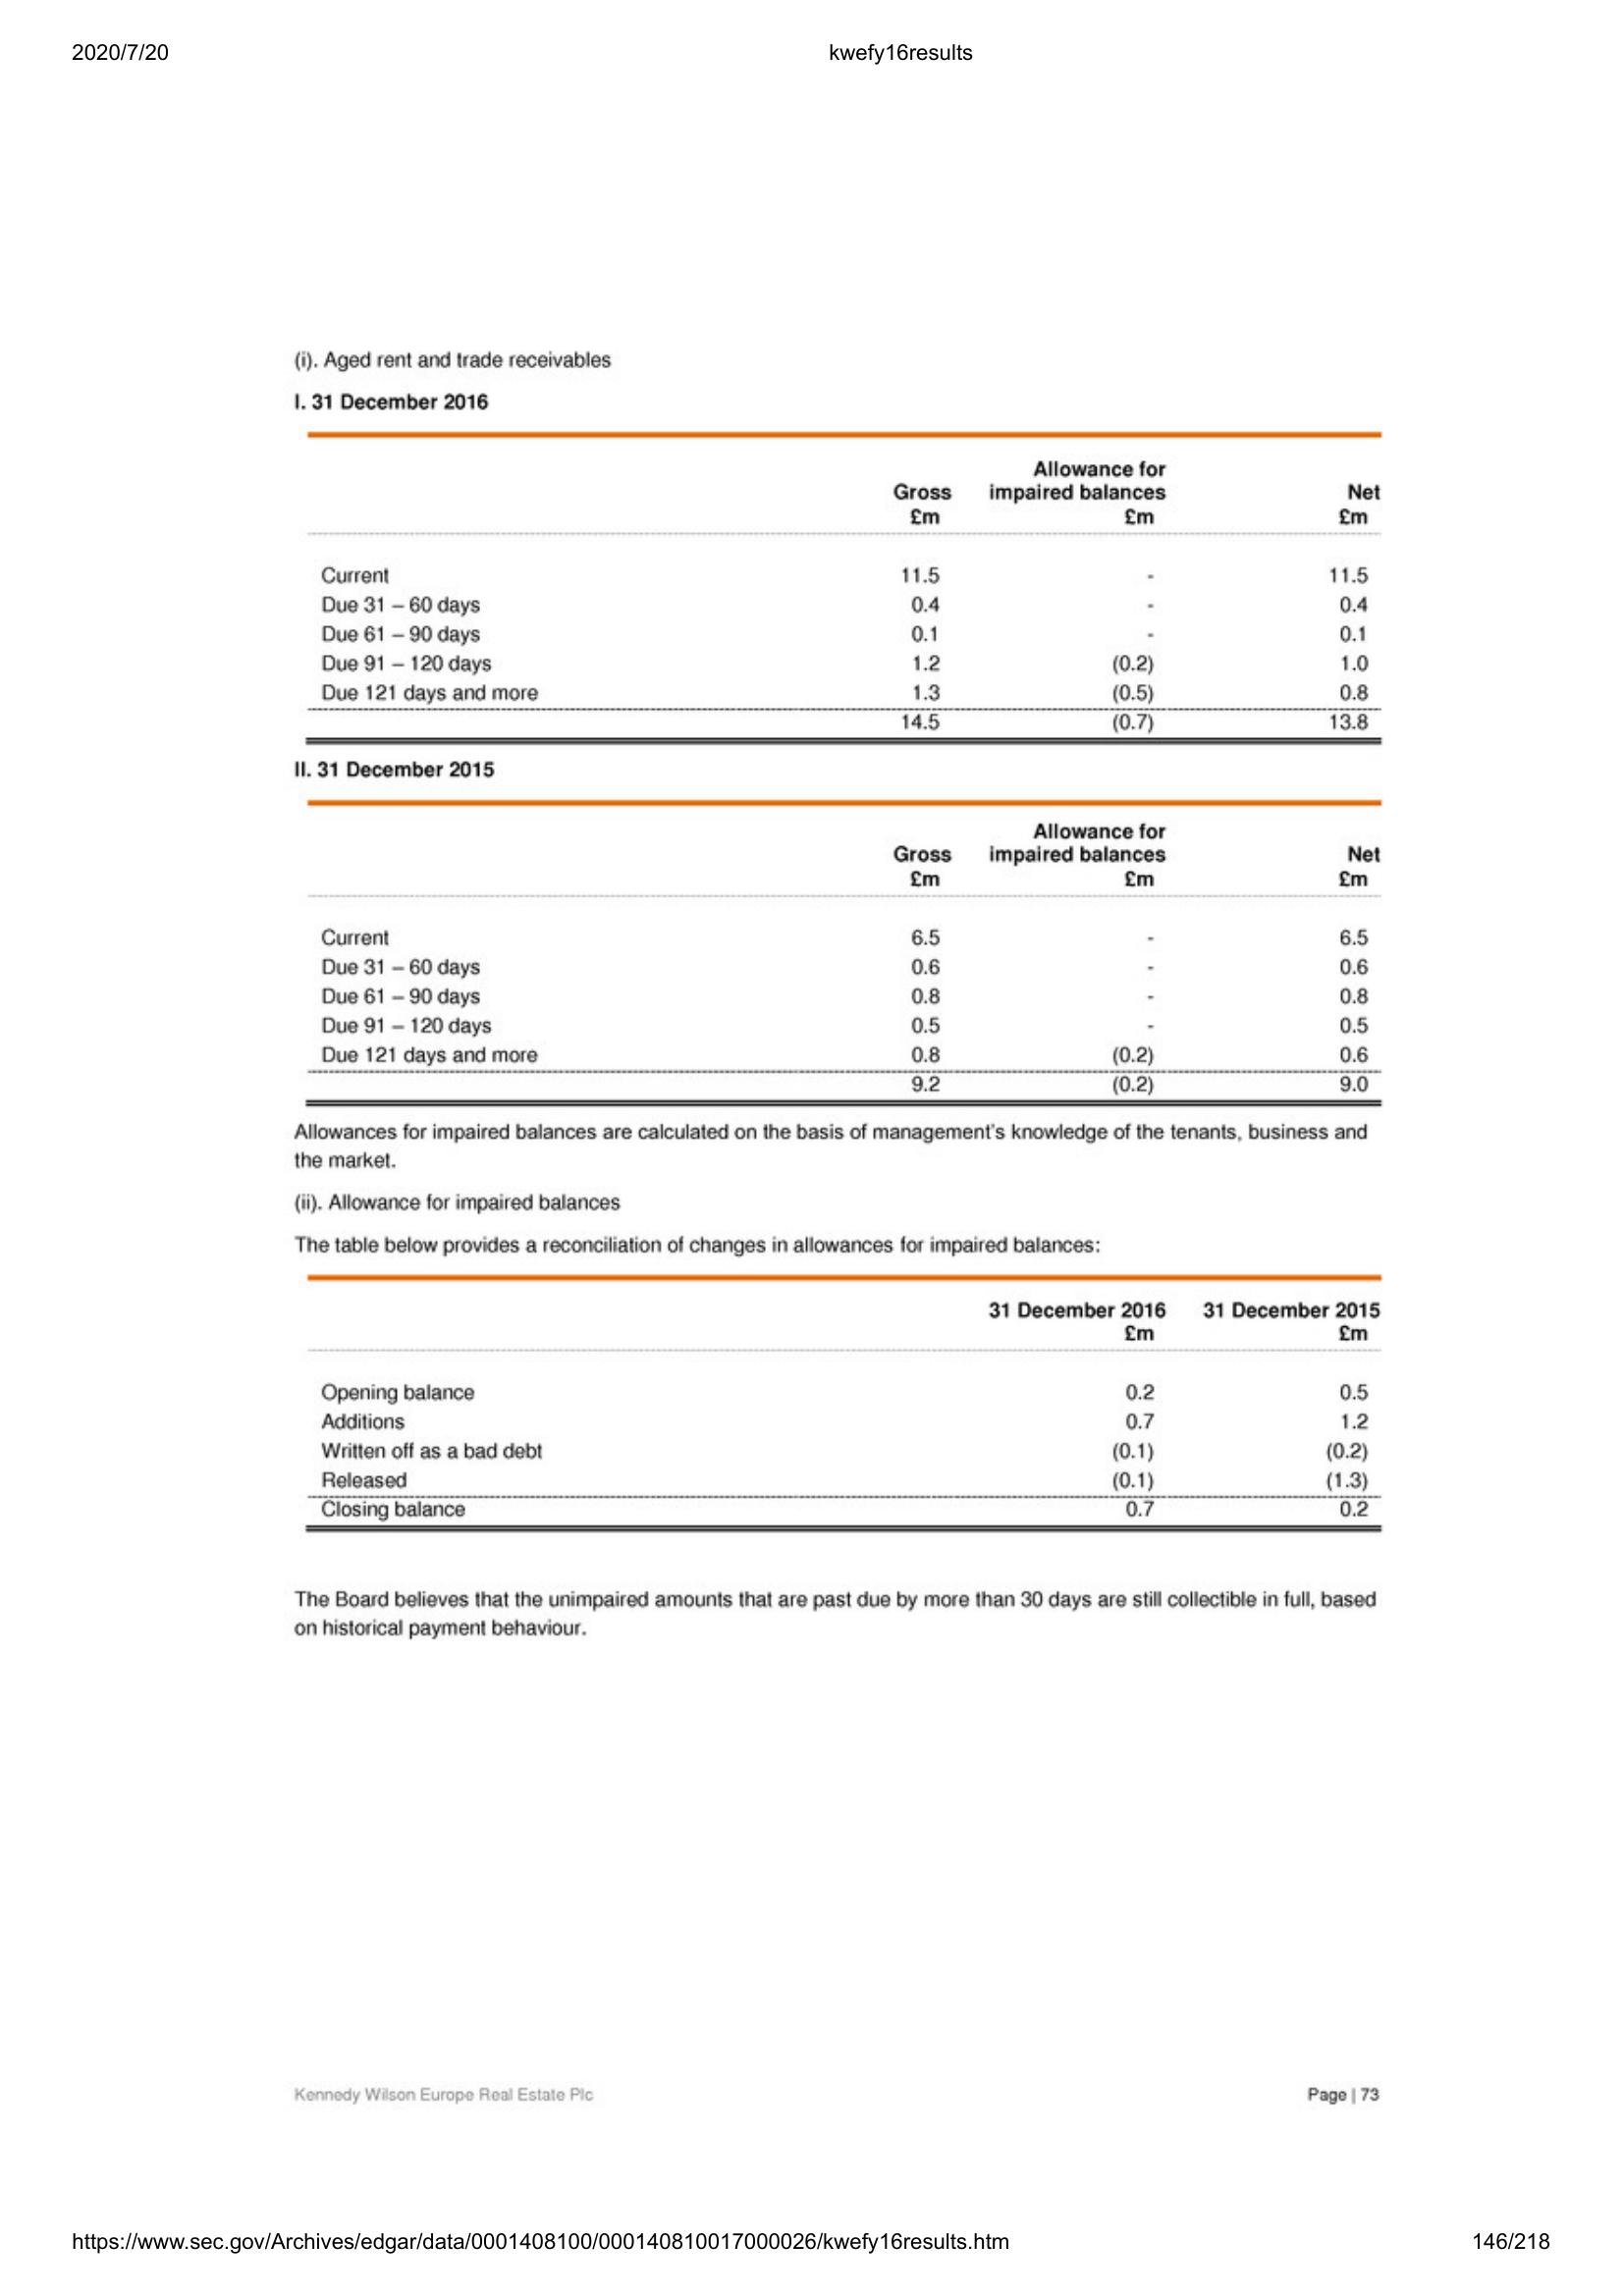table: (295, 785, 1391, 1115), (302, 425, 1396, 751), (293, 1259, 1395, 1546)
